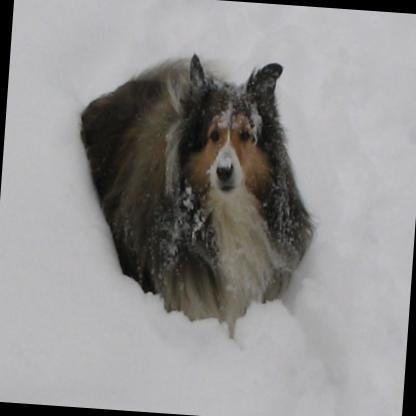Shetland_sheepdog: (60, 45, 329, 342)
